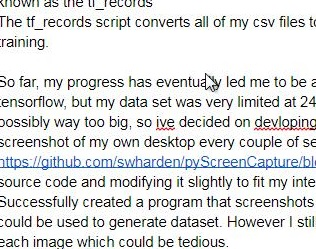cursor: (203, 71, 218, 94)
